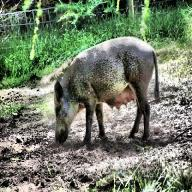boar: (46, 26, 180, 153)
